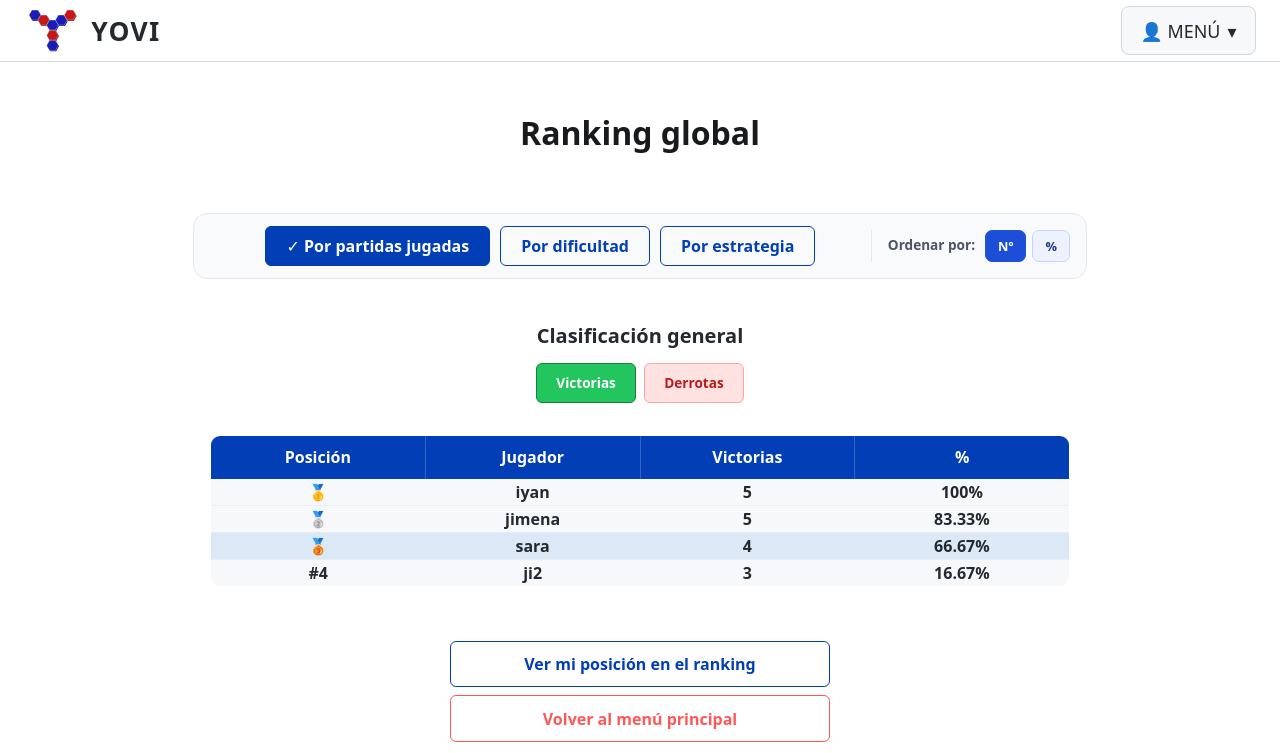
Ranking › muestra las secciones de clasificación general, por dificultad y por estrategia al activar los tres filtros
Expected: the heading "Clasificación general" is shown, [537, 321, 743, 351]
Click the button "Por dificultad".
click(575, 246)  # box [500, 226, 650, 266]
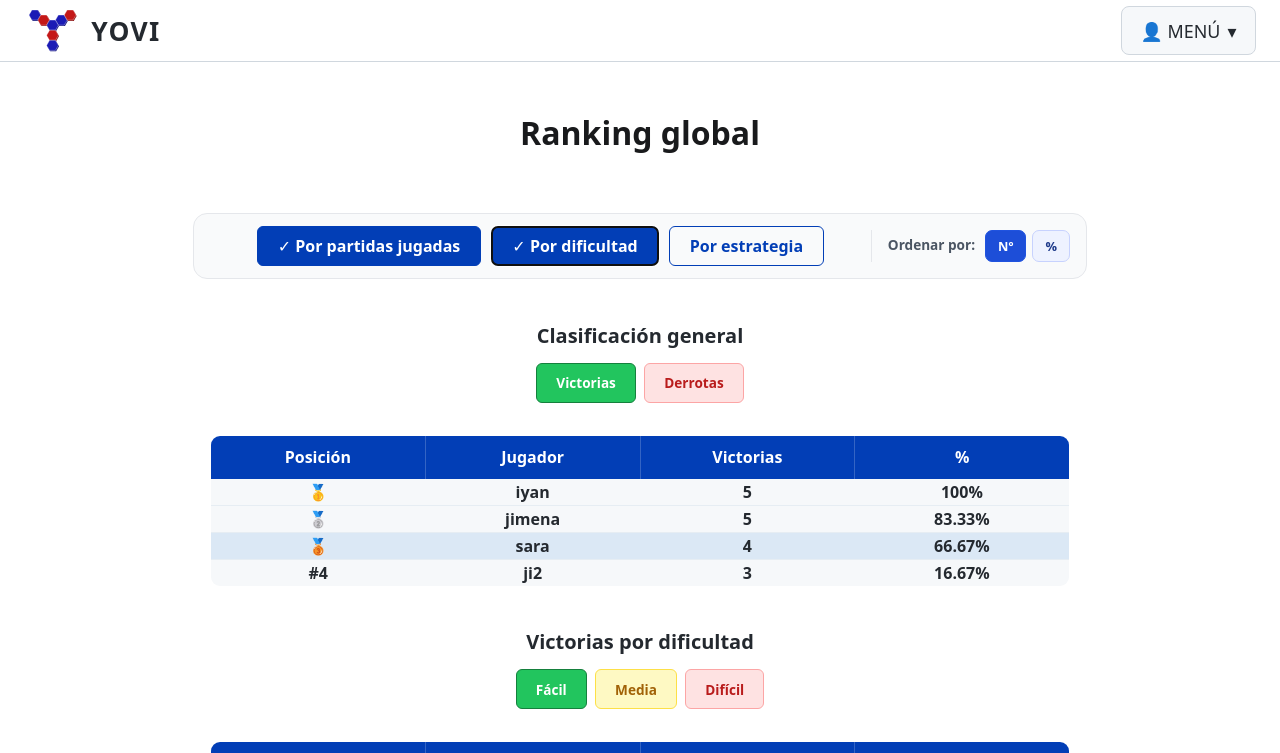
Expected: the heading "Victorias por dificultad" is shown, [526, 627, 754, 657]
Click the button "Por estrategia".
click(746, 246)  # box [669, 226, 824, 266]
(page scrolled)
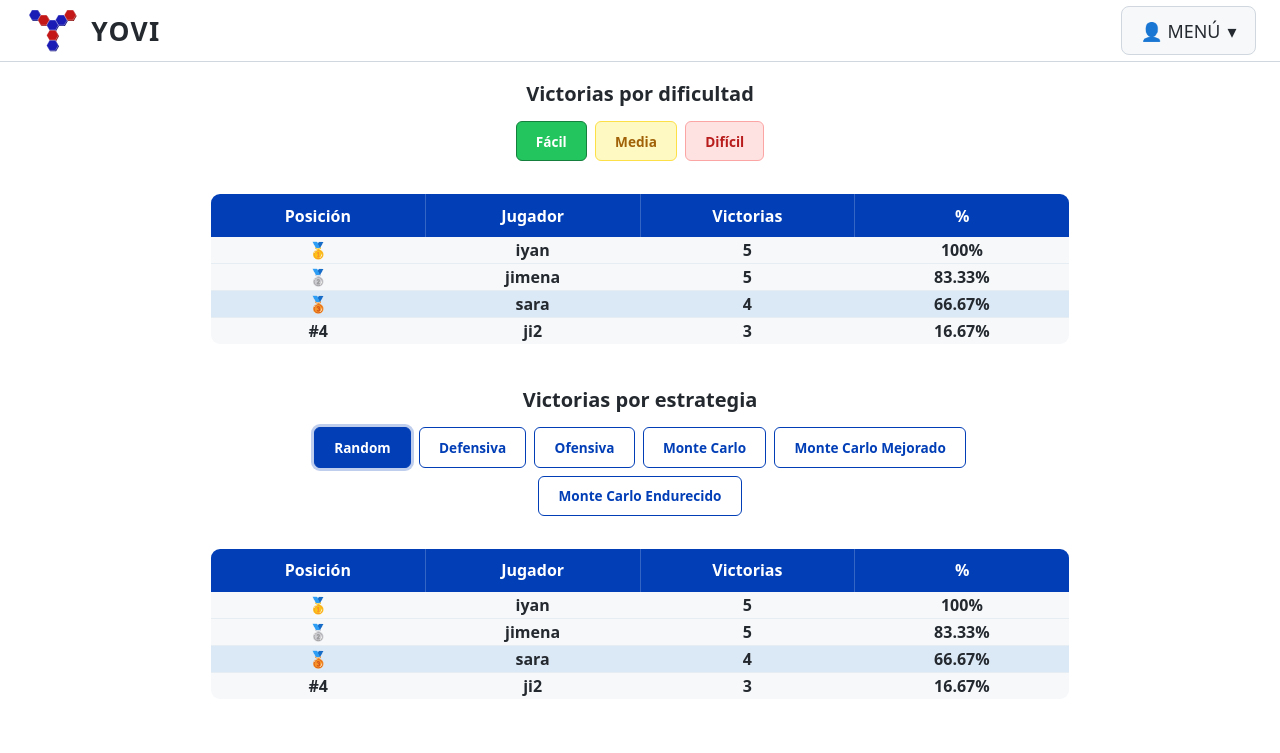
Expected: the heading "Victorias por estrategia" is shown, [523, 385, 757, 415]
